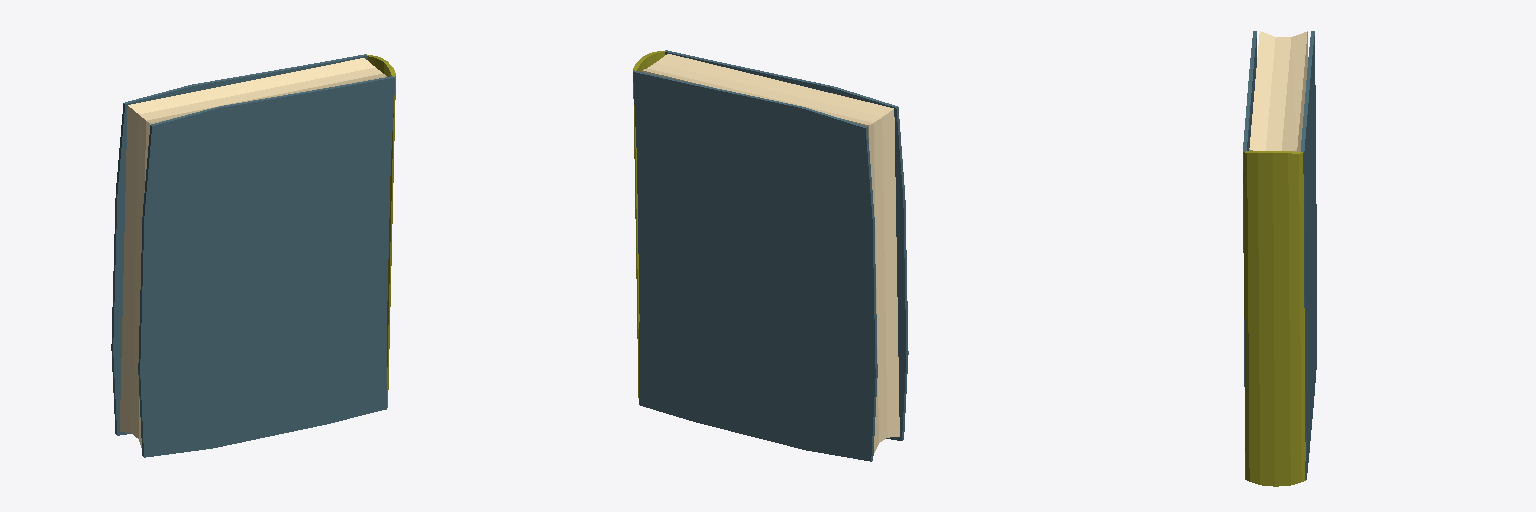
File: book.obj
3 renders of one model, left to right at view 1: azimuth 30°, elevation 25°; view 2: azimuth 150°, elevation 25°; view 3: azimuth 270°, elevation 25°, orthographic.
Visible parts, largest first — view 1: file.002; view 2: file.002; view 3: file.002.
Boxes of the visible parts, x1,y1,x2,y2 form: file.002: [111, 54, 395, 457]; file.002: [633, 50, 908, 461]; file.002: [1243, 31, 1316, 486].
Bounding box in the file's own units: 8.97 × 11.48 × 2.27.